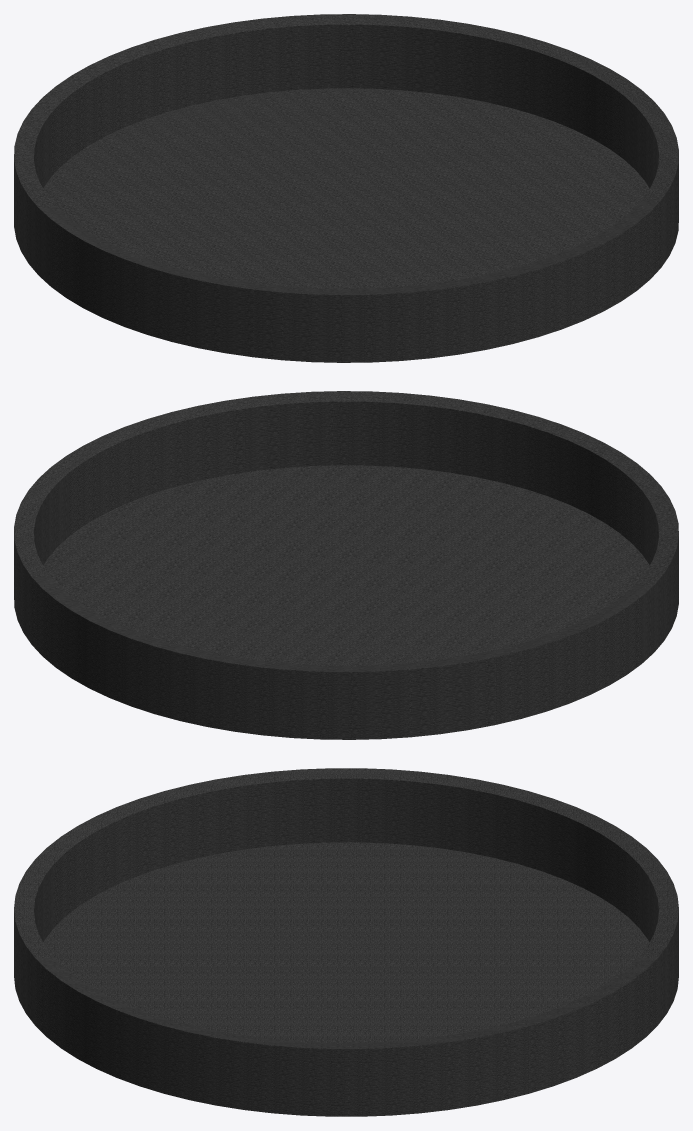
Rendered from pisoTorre.fbx.
The picture shows the model from 3 angles, top to bottom: view 1: azimuth 30°, elevation 25°; view 2: azimuth 150°, elevation 25°; view 3: azimuth 270°, elevation 25°; orthographic projection.
Parts seen in each view (by area): view 1: Cilindro; view 2: Cilindro; view 3: Cilindro.
Part boxes in pixels (x1=…): Cilindro: x1=14, y1=14, x2=678, y2=362; Cilindro: x1=14, y1=391, x2=678, y2=739; Cilindro: x1=14, y1=768, x2=678, y2=1116.
Bounding box in the file's own units: 30707 × 3454 × 30737.
